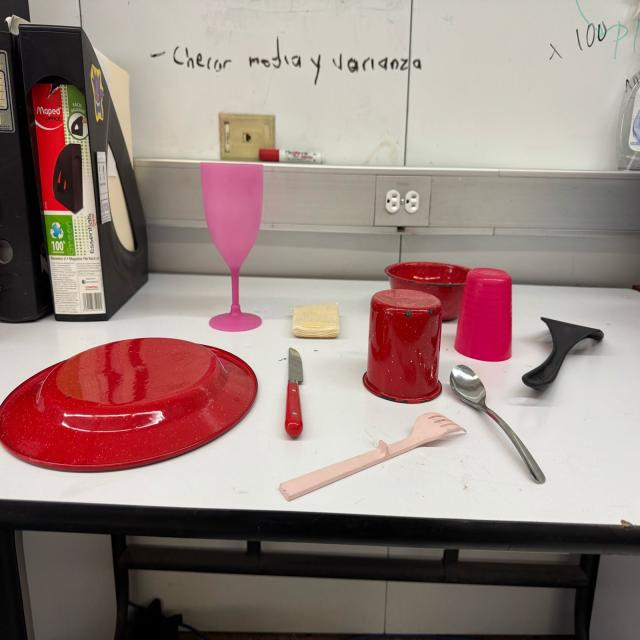cup: (363, 288, 443, 402)
fork: (280, 410, 469, 502)
glass: (453, 267, 515, 363)
knife: (284, 345, 304, 439)
plate: (0, 331, 261, 476)
spatula: (521, 315, 603, 390)
sponge: (292, 302, 340, 338)
spoon: (446, 362, 548, 483)
tazon: (384, 262, 471, 324)
wineglass: (200, 161, 266, 330)
